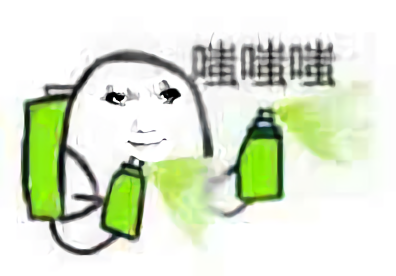dragon: (100, 80, 186, 149)
